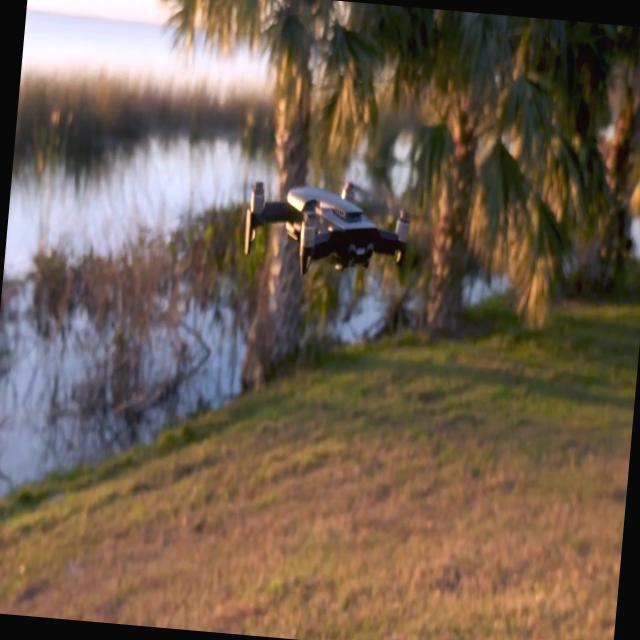drone: (240, 168, 416, 290)
